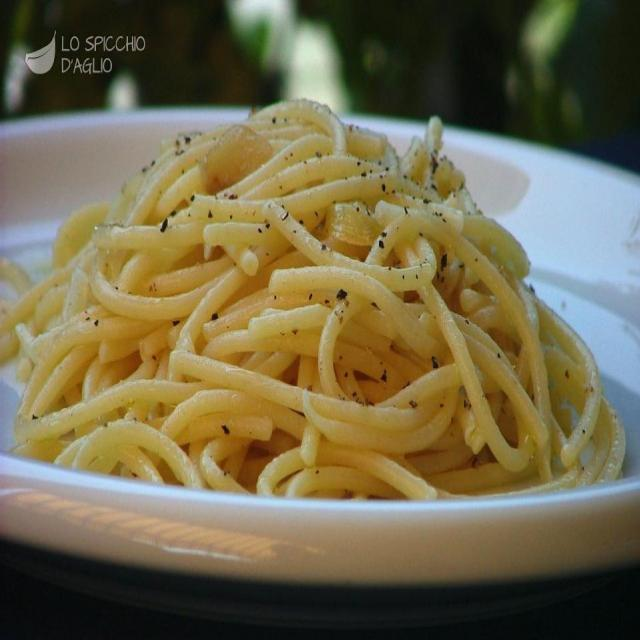Oil pasta: (13, 76, 621, 594)
